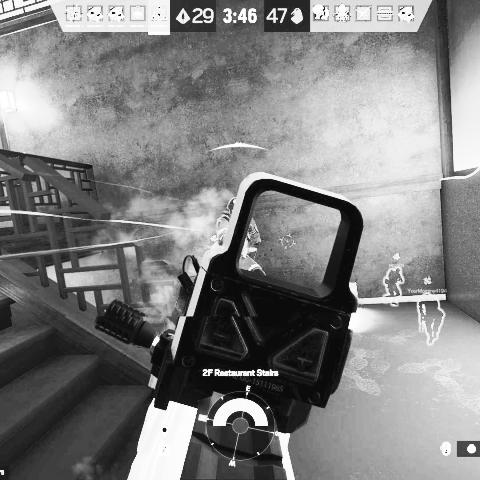Character: (216, 197, 266, 276)
Friend_label: (407, 276, 447, 295), (203, 234, 224, 250), (389, 253, 405, 268)
Head: (226, 197, 236, 214)
